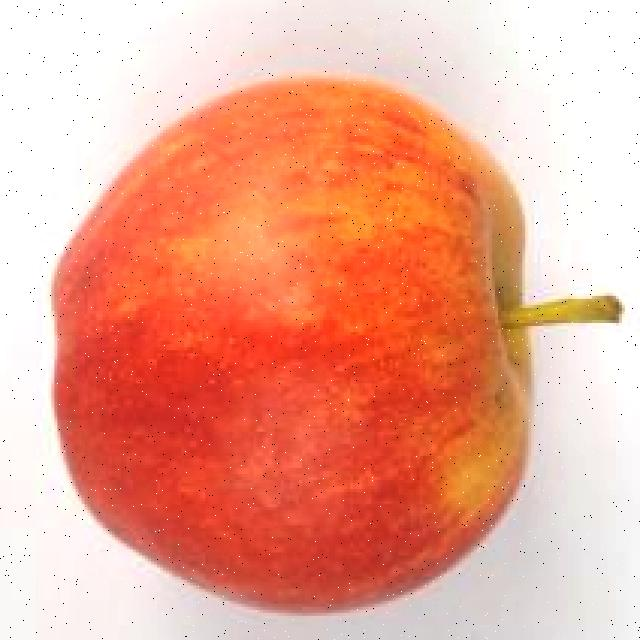apple: (30, 51, 640, 634)
